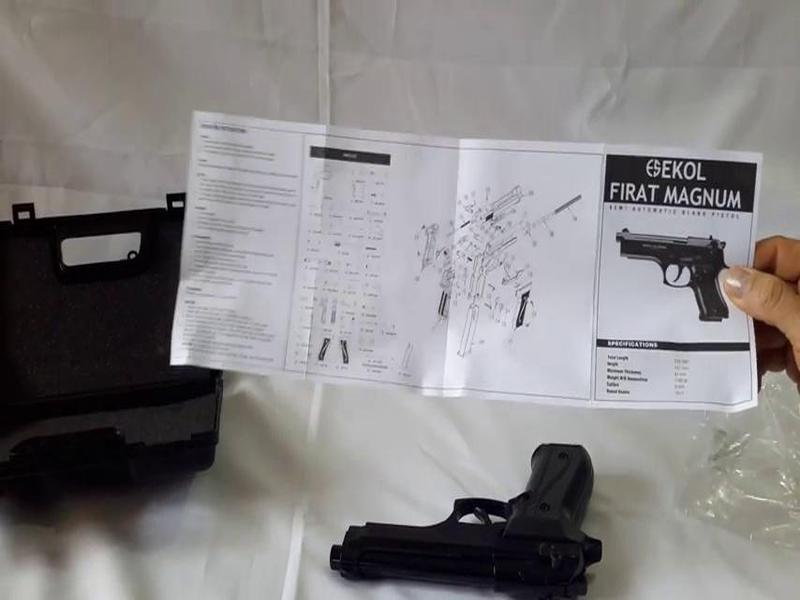Pistola: (317, 419, 605, 600)
